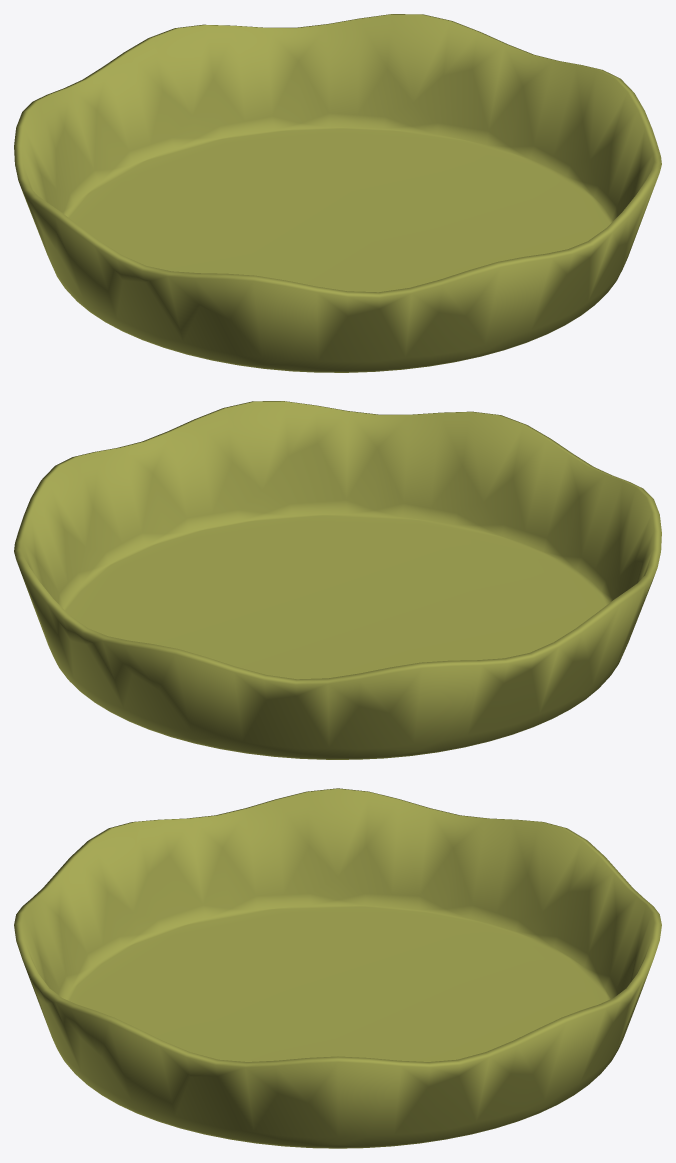
The model's file is crostata_piatto_LOD0.fbx.
3 renders of one model, top to bottom at view 1: azimuth 30°, elevation 25°; view 2: azimuth 150°, elevation 25°; view 3: azimuth 270°, elevation 25°, orthographic.
Visible parts, largest first — view 1: Cube_008; view 2: Cube_008; view 3: Cube_008.
Boxes of the visible parts, box(x1,y1,x2,y2) form: Cube_008: box(14, 14, 661, 372); Cube_008: box(14, 401, 661, 759); Cube_008: box(14, 788, 661, 1148).
Size of the model in its own units: 84.28 by 15.47 by 84.28.
